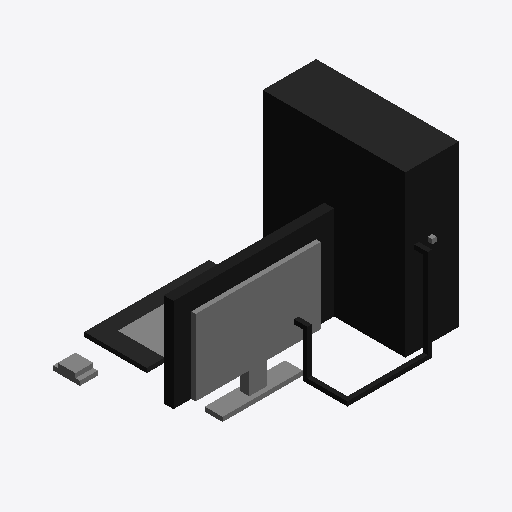
Isometric view (azimuth 45°, elevation 35.3°) of a Minecraft model made of 20 cuboids, textured from the same repository.
Parts seen in each view (by area): element 1, element 4, element 5, element 6, element 2, element 14, element 10, element 3, element 8.
Part boxes in pixels (x1,y1,x2,y2): element 1: (263, 59, 458, 357); element 4: (191, 239, 320, 400); element 5: (165, 205, 333, 408); element 6: (84, 260, 216, 372); element 2: (205, 361, 302, 421); element 14: (423, 255, 431, 354); element 10: (343, 353, 431, 406); element 3: (240, 361, 266, 395); element 8: (58, 353, 92, 377).
Bounding box in the file's own units: 13.5 × 9 × 10.75.